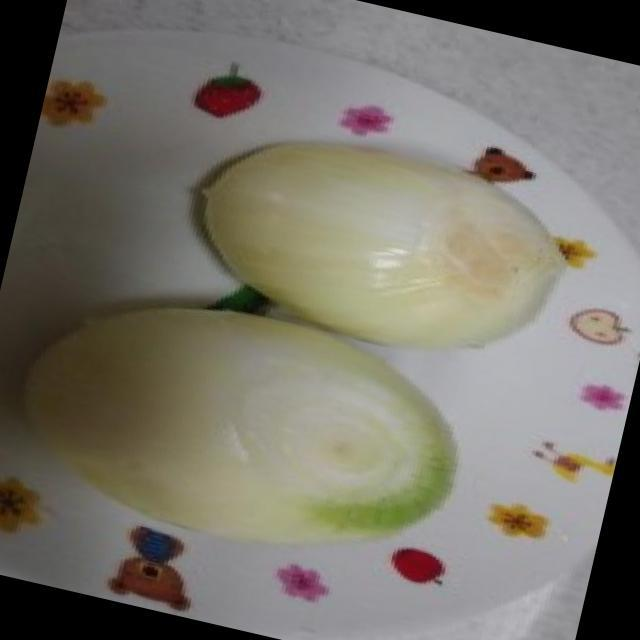Onion: (22, 306, 459, 537), (202, 152, 562, 339)
